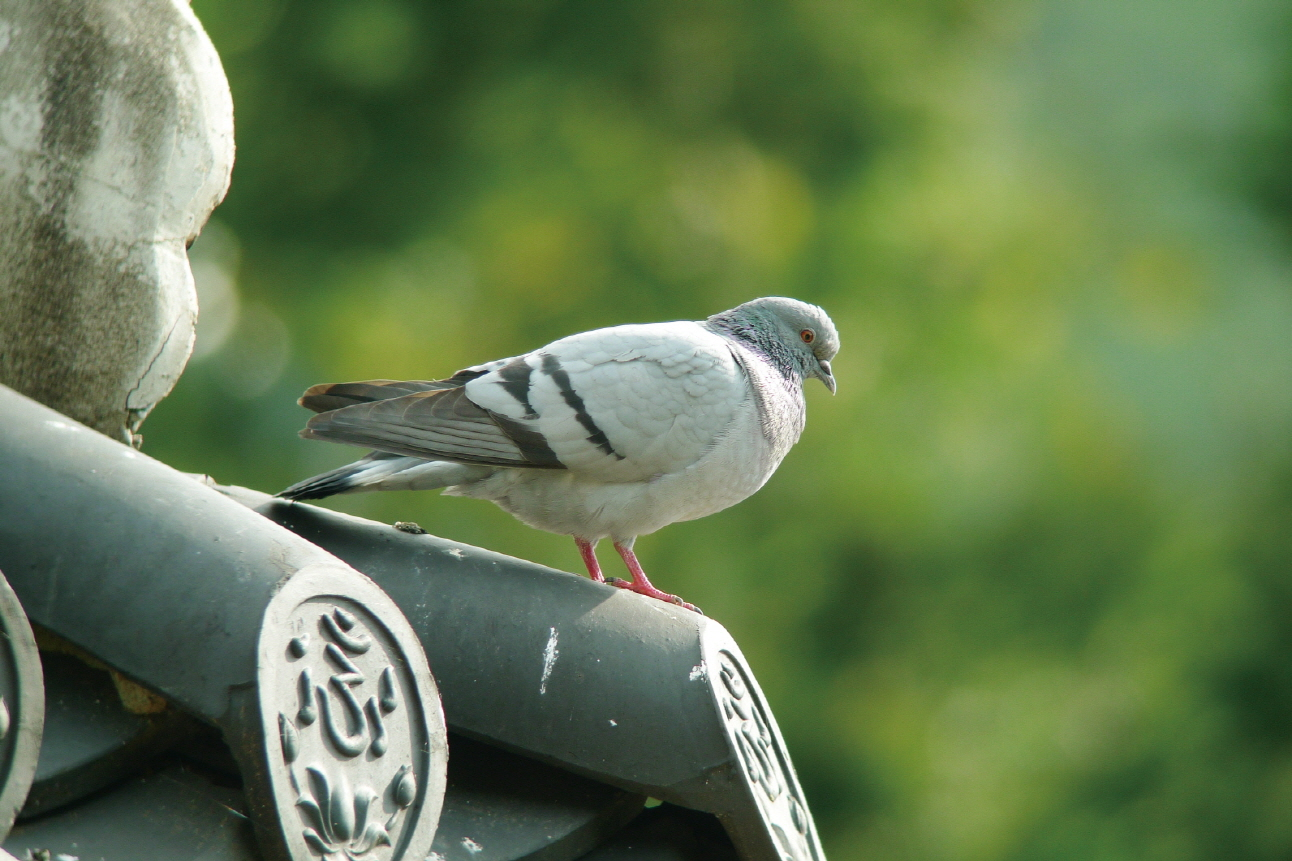pigeon: (277, 283, 901, 605)
